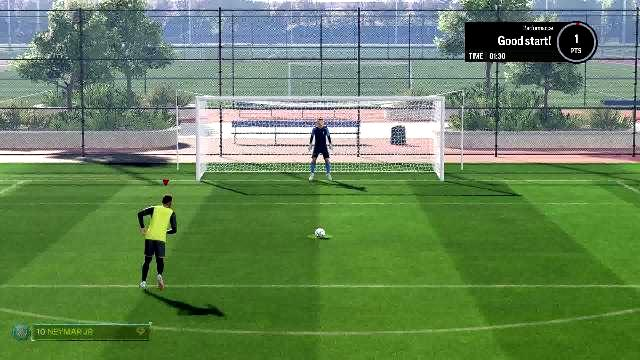bottom-left: (202, 144, 278, 180)
bottom-right: (358, 143, 438, 181)
center-down: (278, 142, 360, 180)
center-up: (280, 102, 362, 142)
circle: (310, 235, 332, 239)
football: (314, 229, 328, 240)
goalkeeper: (306, 117, 339, 181)
player: (135, 193, 181, 296)
top-left: (206, 102, 282, 142)
top-right: (362, 102, 440, 142)
